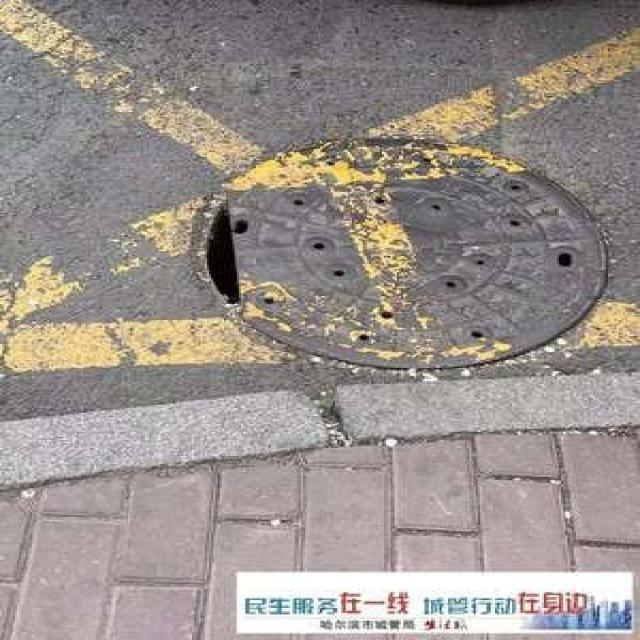manhole: (190, 131, 616, 370)
